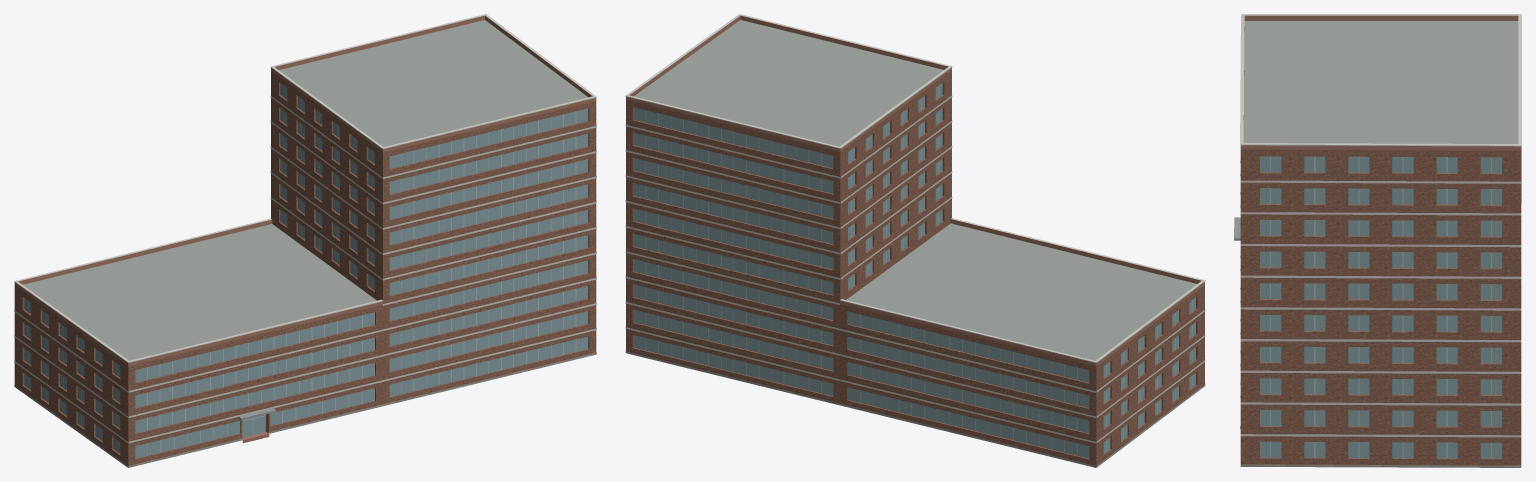
The picture shows the model from 3 angles, left to right: view 1: azimuth 30°, elevation 25°; view 2: azimuth 150°, elevation 25°; view 3: azimuth 270°, elevation 25°; orthographic projection. The views are drawn at different scales.
Parts seen in each view (by area): view 1: e3__wall, e3__roof, e3__glass, e3__trim, e3__parapet, e3__frame, e3__base; view 2: e3__wall, e3__roof, e3__glass, e3__trim, e3__parapet, e3__frame, e3__base; view 3: e3__wall, e3__roof, e3__glass, e3__trim, e3__parapet, e3__frame, e3__base.
Boxes of the visible parts, x1,y1,x2,y2 form: e3__wall: [14, 71, 596, 467]; e3__roof: [23, 20, 588, 467]; e3__glass: [24, 83, 588, 458]; e3__trim: [14, 14, 596, 443]; e3__parapet: [14, 15, 596, 366]; e3__frame: [28, 99, 576, 455]; e3__base: [14, 352, 596, 467]; e3__wall: [626, 71, 1204, 467]; e3__roof: [634, 20, 1196, 360]; e3__glass: [633, 83, 1195, 458]; e3__trim: [625, 14, 1205, 443]; e3__parapet: [626, 15, 1204, 366]; e3__frame: [645, 86, 1192, 455]; e3__base: [625, 351, 1205, 467]; e3__wall: [1240, 149, 1521, 465]; e3__roof: [1243, 21, 1518, 467]; e3__glass: [1260, 156, 1501, 458]; e3__trim: [1240, 14, 1521, 437]; e3__parapet: [1240, 15, 1521, 150]; e3__frame: [1270, 156, 1491, 458]; e3__base: [1240, 426, 1521, 467].
Bounding box in the file's own units: 68.21 × 36 × 28.8.
Materials: 10 (2 with a texture image).
